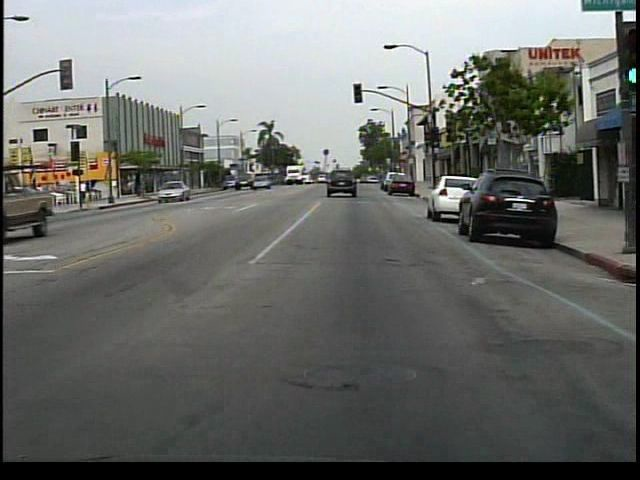person: (82, 179, 91, 205)
